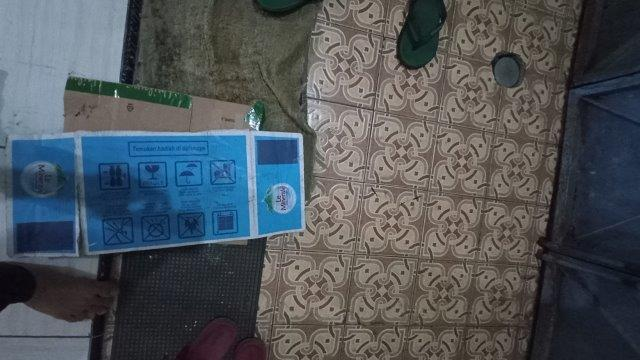kardus: (8, 78, 304, 256)
